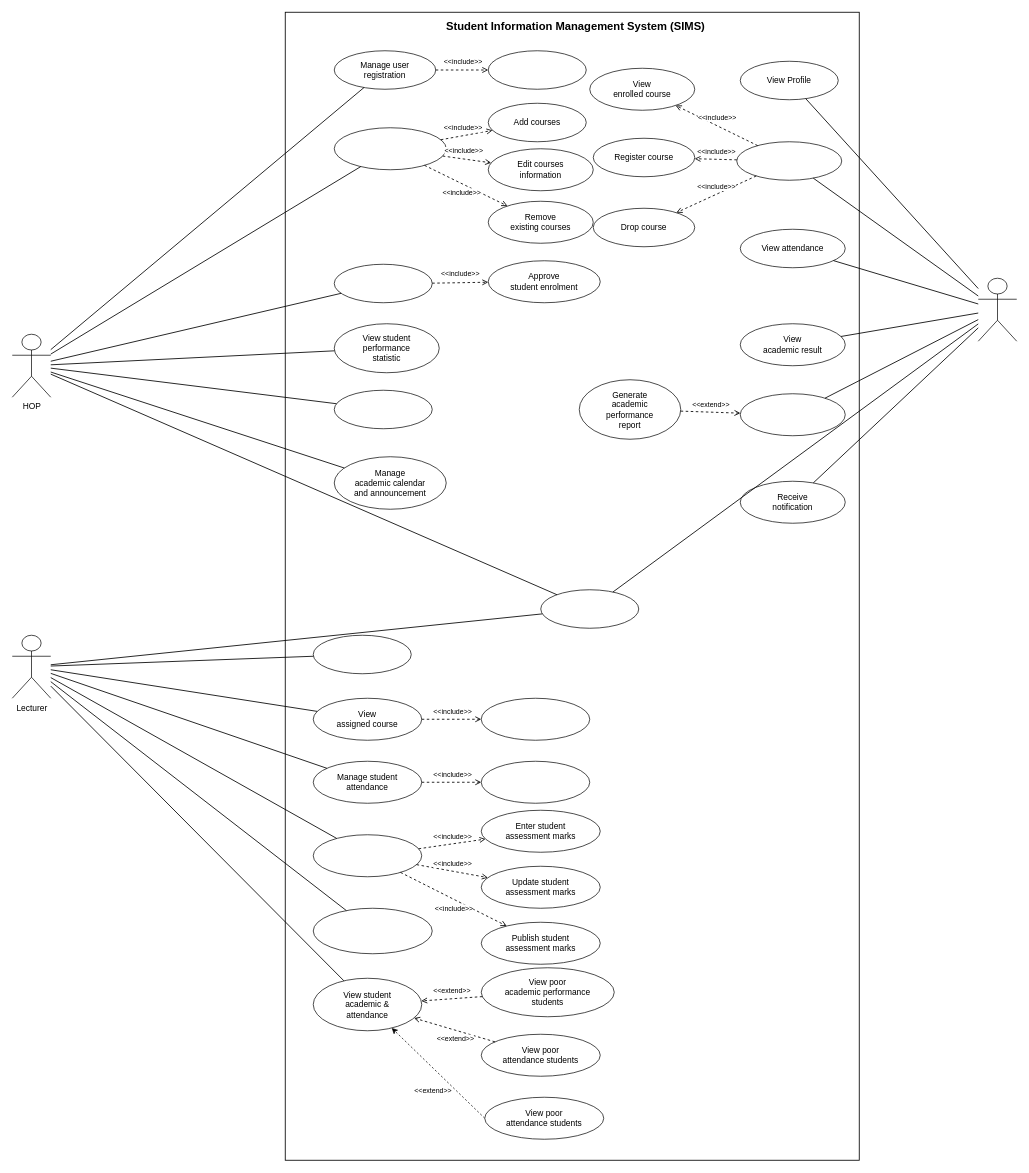
This 1029x1173 diagram has some shape labels left out. The shapes that lost their labels are listed below. From the top down, each one's centre as x and y in pixels, then its label:
the point at 537,69: Assign roles
the point at 390,148: Manage academic programmes
the point at 789,160: Manage course
the point at 383,283: Manage enrolment
the point at 997,309: Student
the point at 383,409: Generate Report
the point at 792,414: Track academic history
the point at 589,608: Login
the point at 362,654: Manage Profile
the point at 535,719: View registered student
the point at 535,782: Record/update attendance
the point at 367,855: Manage student marks
the point at 372,931: Post announcements & course materials
